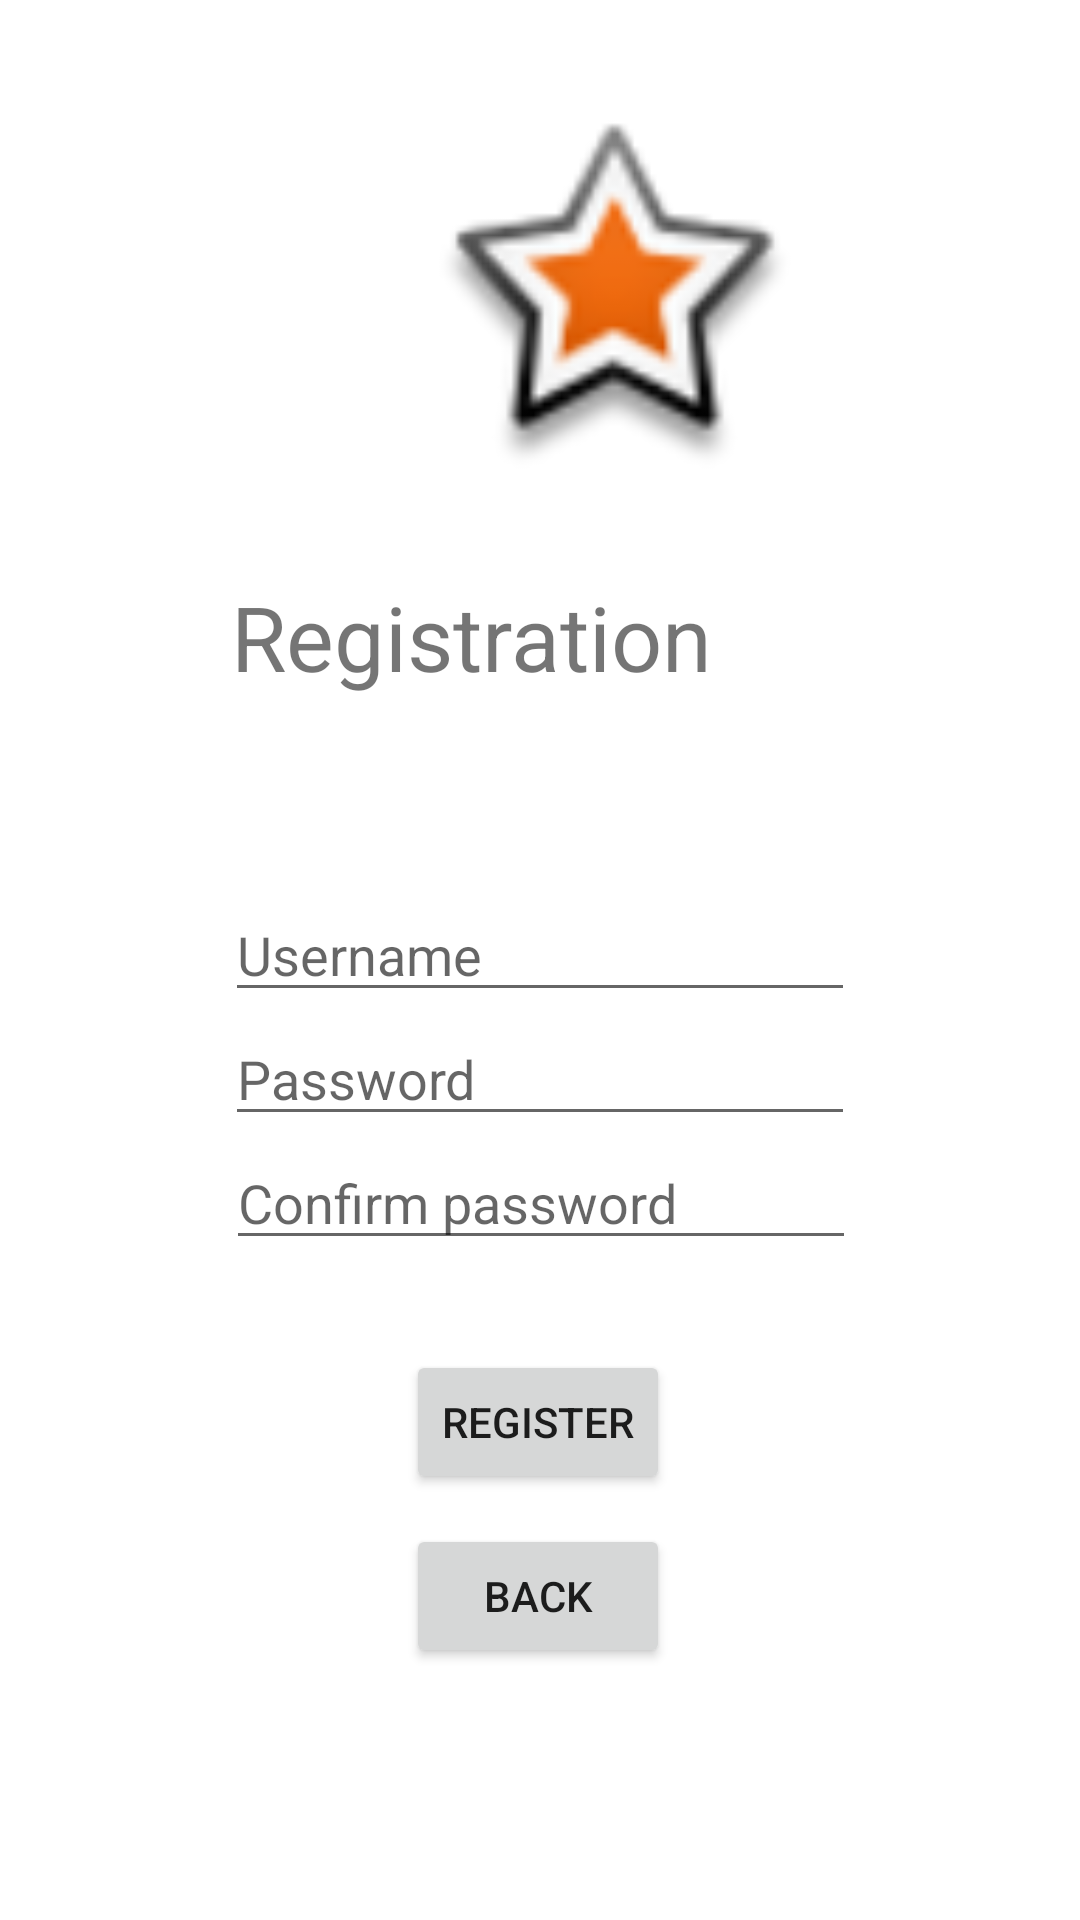

Locate icon controls on the screen. Image size 1080px x 1920px, boxes as (x1, y1, x2, y2).
star on: (455, 124, 774, 451)
